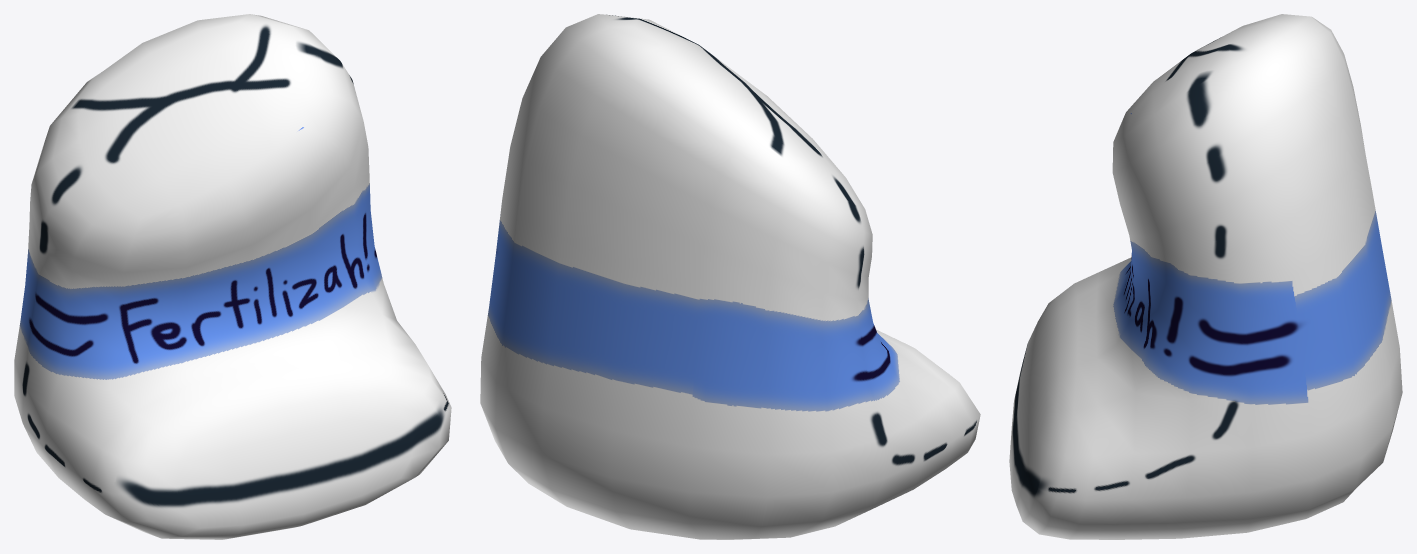
Rendered from fertilizer.fbx.
3 views of the same model, side by side, from view 1: azimuth 30°, elevation 25°; view 2: azimuth 150°, elevation 25°; view 3: azimuth 270°, elevation 25° (orthographic). The views are drawn at different scales.
Visible parts, largest first — view 1: Cube; view 2: Cube; view 3: Cube.
Part boxes in pixels (bbox=[...]): Cube: bbox=[14, 14, 451, 539]; Cube: bbox=[480, 14, 980, 539]; Cube: bbox=[1009, 14, 1402, 539].
Size of the model in its own units: 182 by 206 by 153.
Materials: 1 (1 with a texture image).
